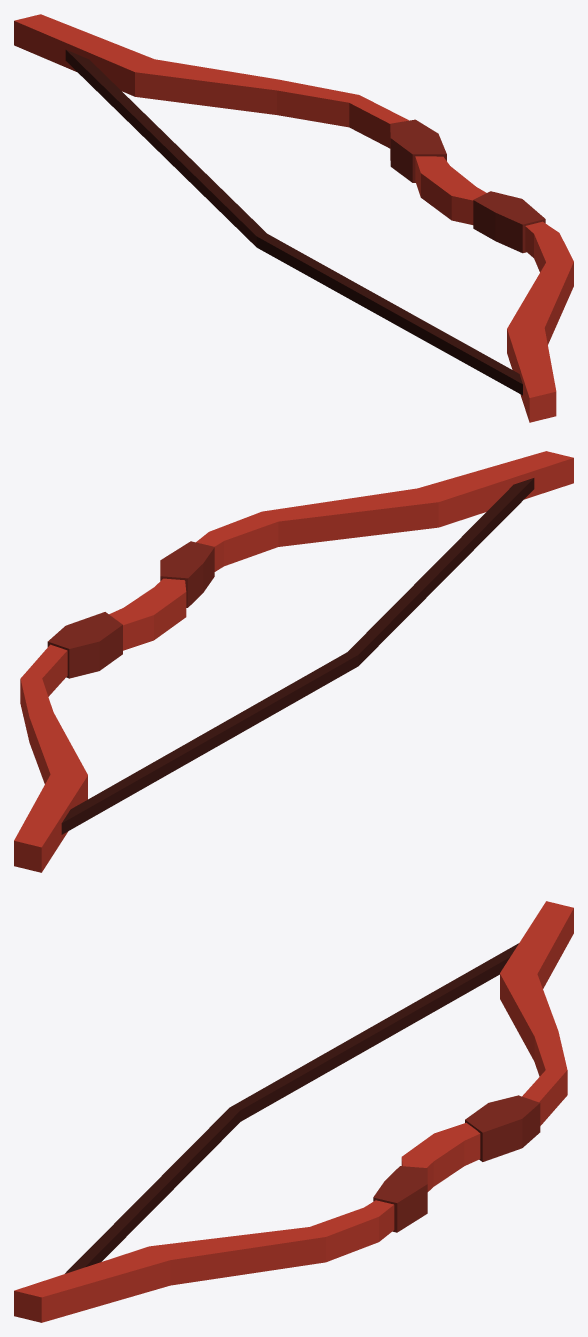
The model's file is Bow_2_Red.fbx.
The picture shows the model from 3 angles, top to bottom: view 1: azimuth 30°, elevation 25°; view 2: azimuth 150°, elevation 25°; view 3: azimuth 330°, elevation 25°; orthographic projection. The views are drawn at different scales.
Visible parts, largest first — view 1: Bow_2_Red_Part_1, Bow_2_Red_Part_3, Bow_2_Red_Part_2; view 2: Bow_2_Red_Part_1, Bow_2_Red_Part_3, Bow_2_Red_Part_2; view 3: Bow_2_Red_Part_1, Bow_2_Red_Part_3, Bow_2_Red_Part_2.
Boxes of the visible parts, x1,y1,x2,y2 form: Bow_2_Red_Part_1: [14, 14, 573, 422]; Bow_2_Red_Part_3: [65, 49, 522, 395]; Bow_2_Red_Part_2: [390, 119, 545, 253]; Bow_2_Red_Part_1: [14, 451, 573, 872]; Bow_2_Red_Part_3: [61, 478, 534, 834]; Bow_2_Red_Part_2: [47, 541, 214, 678]; Bow_2_Red_Part_1: [14, 901, 573, 1322]; Bow_2_Red_Part_3: [65, 943, 518, 1273]; Bow_2_Red_Part_2: [373, 1095, 540, 1232].
Size of the model in its own units: 28.66 by 3.37 by 110.
